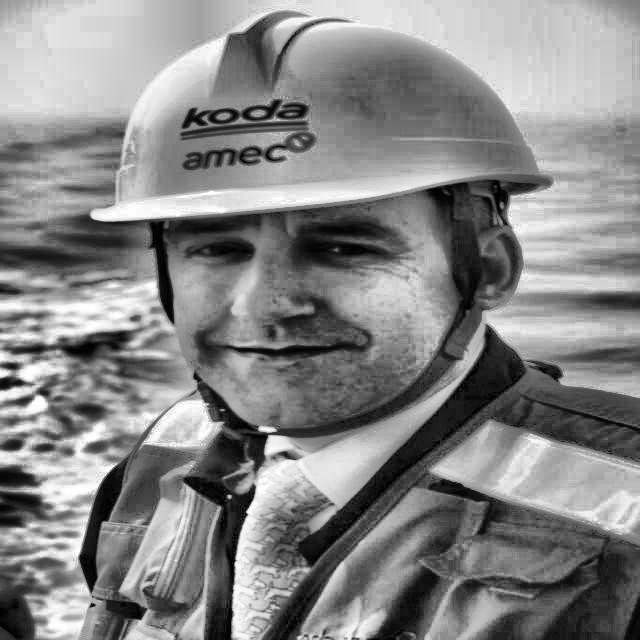Helmet: (77, 0, 573, 446)
